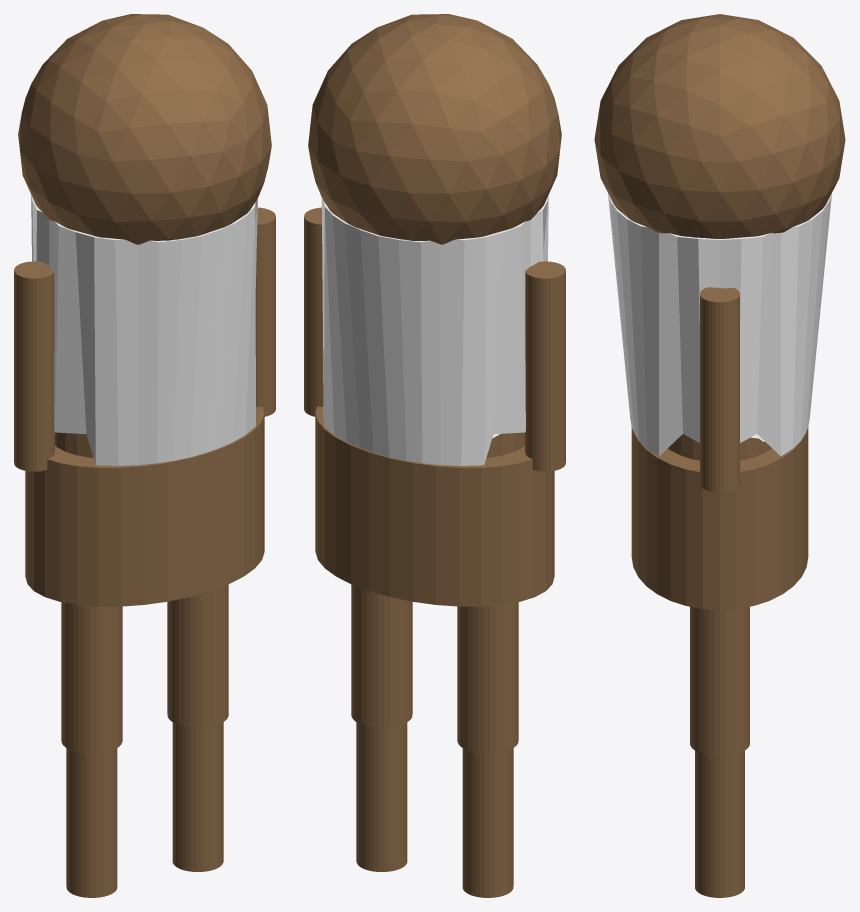
3 renders of one model, left to right at view 1: azimuth 30°, elevation 25°; view 2: azimuth 150°, elevation 25°; view 3: azimuth 270°, elevation 25°, orthographic.
Visible parts, largest first — view 1: Torso, Clothing_Shirt; view 2: Torso, Clothing_Shirt; view 3: Torso, Clothing_Shirt.
Boxes of the visible parts, x1,y1,x2,y2 form: Torso: (14,14,275,897); Clothing_Shirt: (31,195,257,465); Torso: (304,14,565,897); Clothing_Shirt: (321,195,548,465); Torso: (594,14,845,897); Clothing_Shirt: (608,193,831,455).
Bounding box in the file's own units: 0.58 × 1.84 × 0.5.
